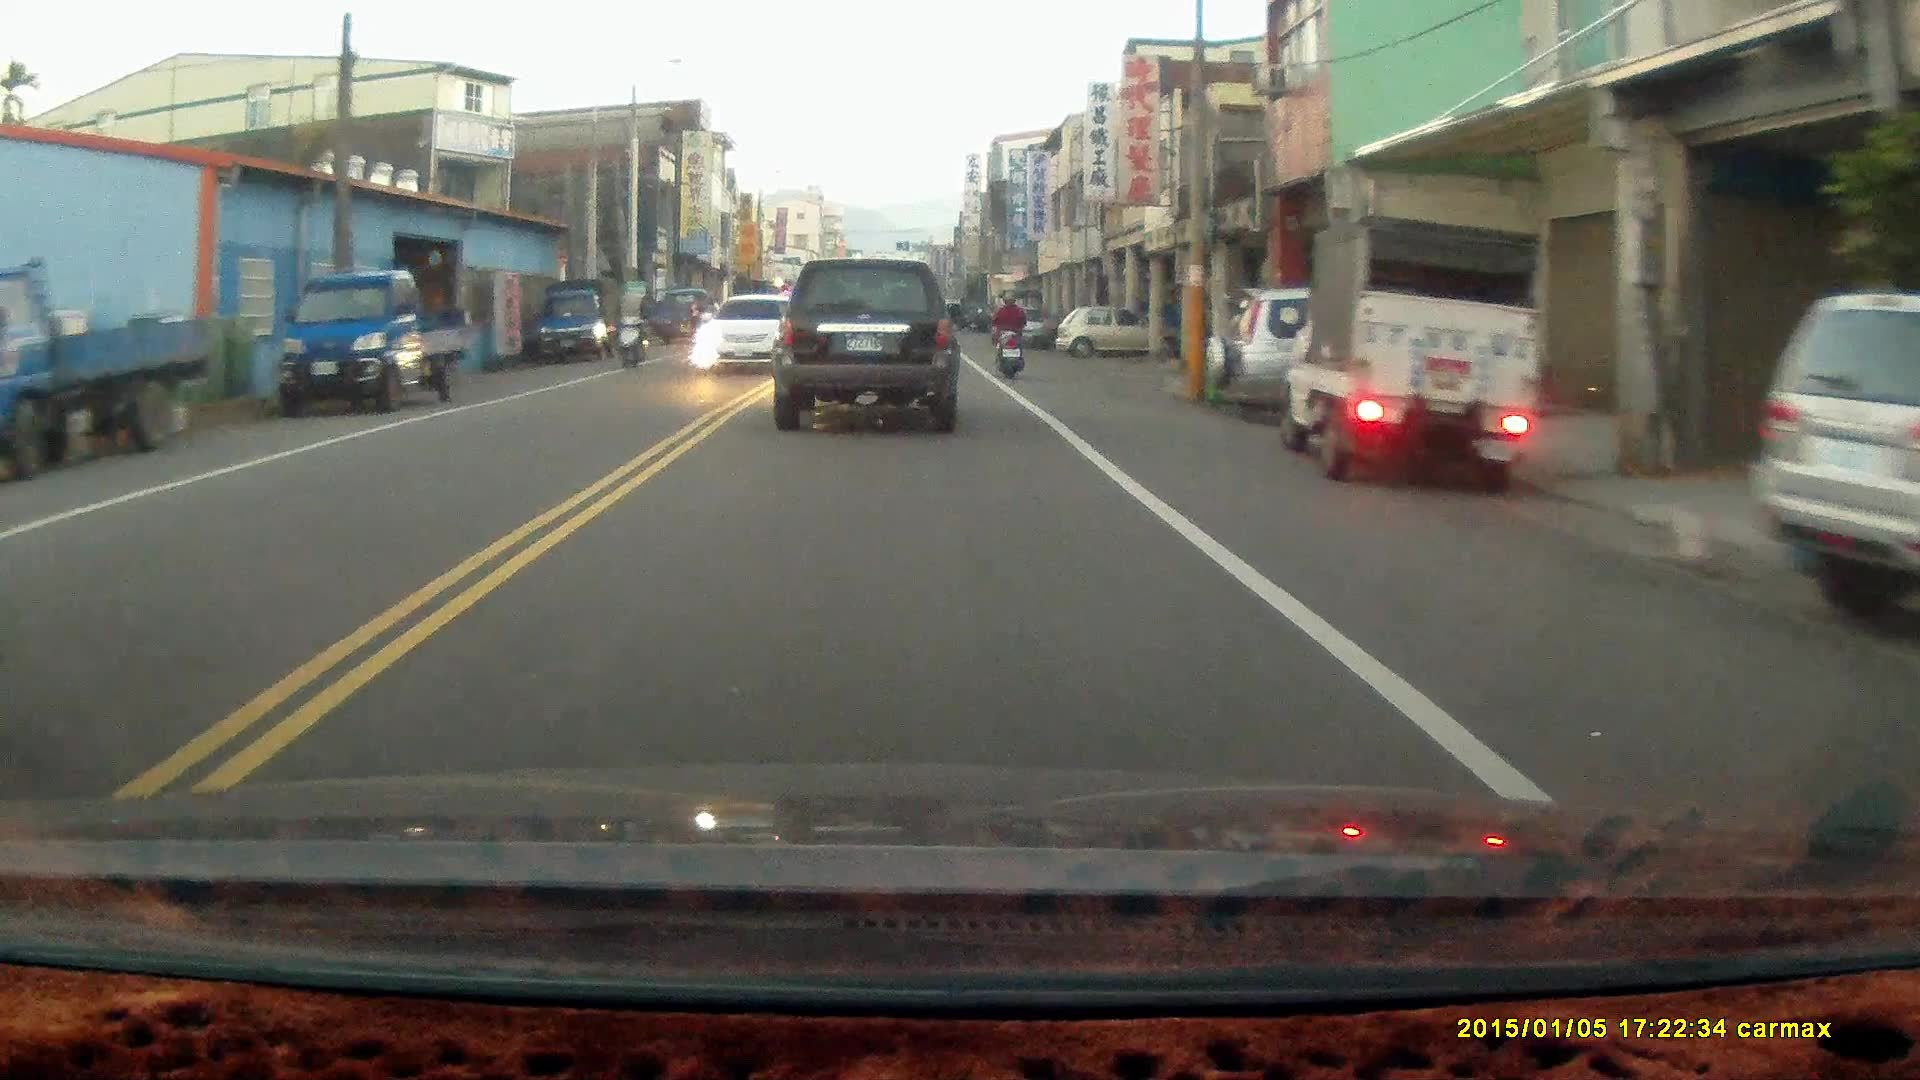pedestrian: (684, 297, 704, 348)
rider: (990, 283, 1027, 380), (611, 281, 648, 368)
vehicle: (1278, 216, 1553, 491), (1749, 288, 1920, 625), (1205, 277, 1550, 429), (2, 265, 211, 466), (770, 255, 964, 431), (277, 270, 471, 412), (530, 279, 633, 360), (700, 290, 791, 377), (1060, 306, 1145, 359)
